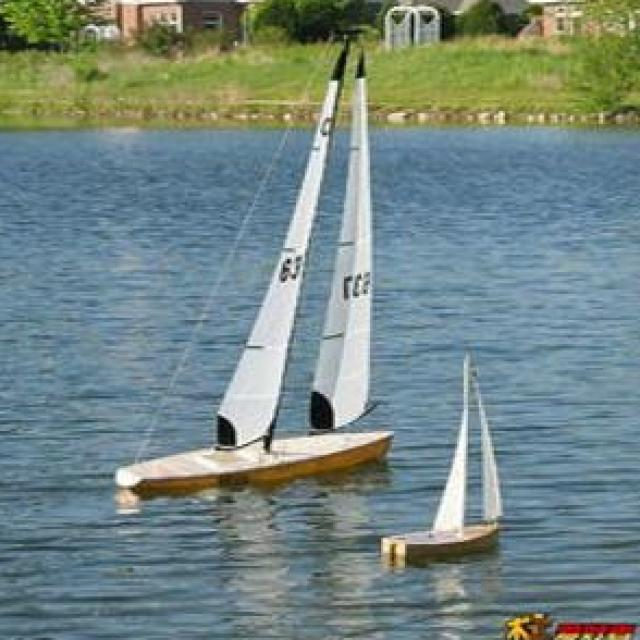sailboat: (120, 36, 394, 490), (386, 347, 506, 564)
